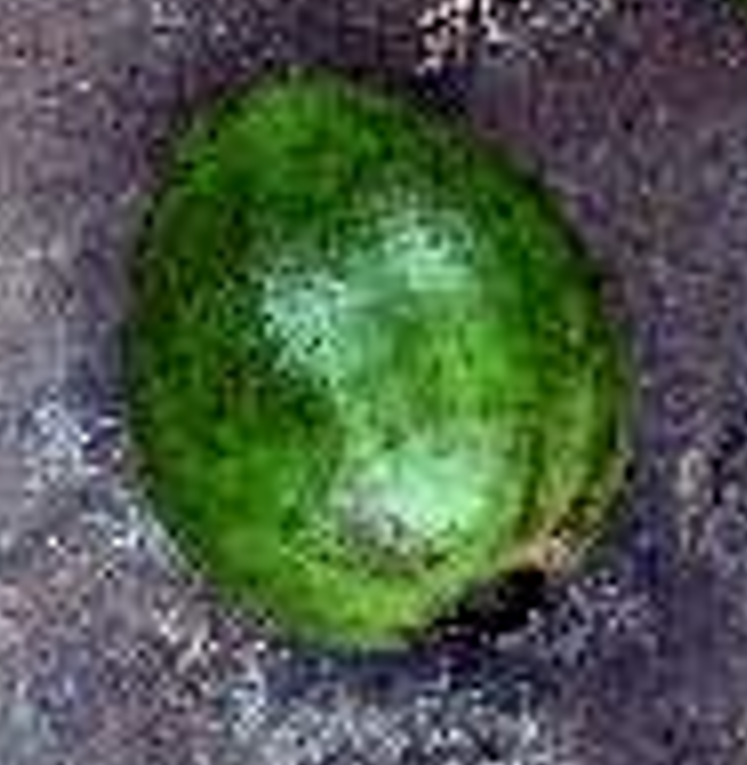guava_B: (127, 70, 634, 653)
